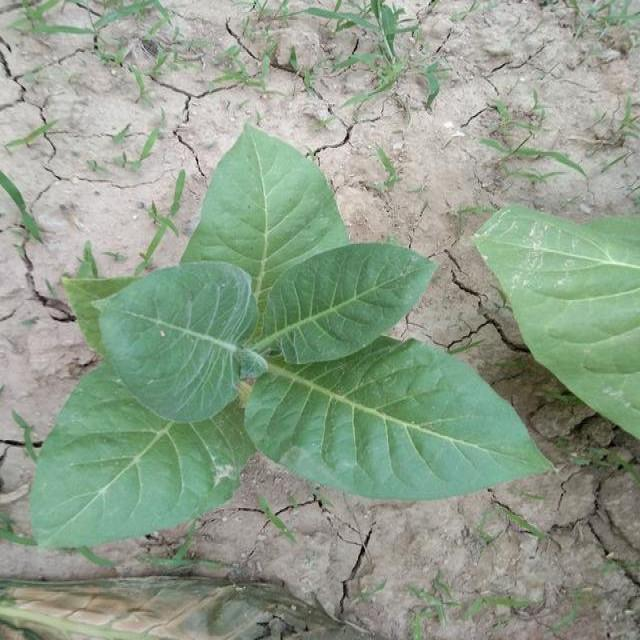crop: (26, 127, 559, 544)
